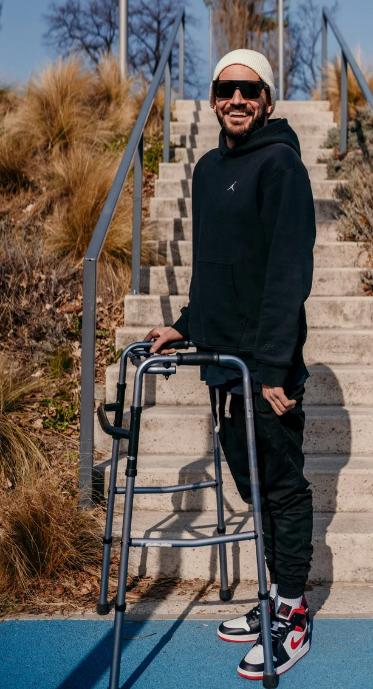walking_frame: (96, 48, 317, 689)
